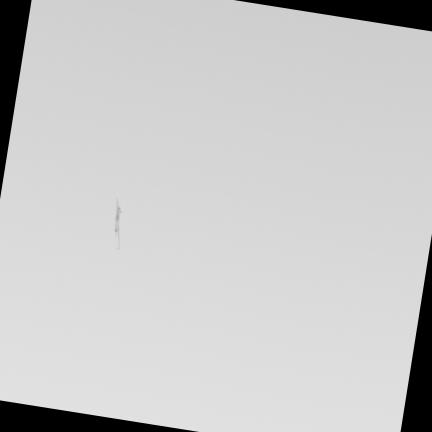Shahed: (112, 194, 123, 250)
